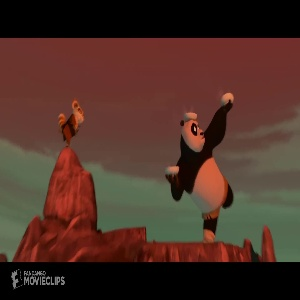po: (165, 89, 240, 242)
shifu: (54, 99, 86, 148)
